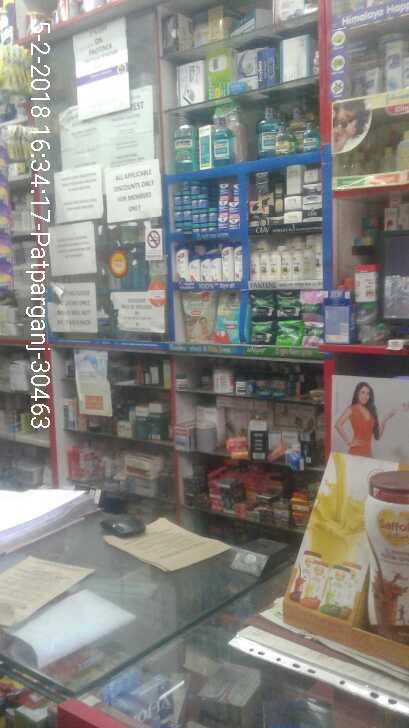beauty: (173, 245, 188, 280), (221, 250, 232, 282), (268, 251, 279, 281), (292, 249, 302, 282), (210, 254, 221, 283), (233, 249, 242, 283), (280, 251, 290, 281), (190, 253, 200, 281), (306, 249, 314, 284), (302, 195, 321, 209), (302, 209, 321, 222), (317, 249, 324, 283), (201, 258, 210, 283), (260, 252, 267, 281), (251, 253, 259, 278)
pharmacy: (177, 292, 214, 341), (217, 295, 238, 339), (275, 323, 301, 346), (250, 294, 274, 317), (277, 294, 300, 317), (302, 296, 323, 320), (305, 324, 326, 347), (250, 324, 275, 342), (191, 182, 208, 194), (192, 197, 208, 207), (219, 211, 229, 225), (230, 212, 239, 226), (219, 185, 229, 196), (174, 193, 183, 205), (230, 201, 240, 211), (192, 211, 200, 223), (183, 192, 191, 204), (220, 197, 228, 208), (184, 207, 191, 219), (232, 184, 239, 196), (209, 210, 216, 221), (175, 207, 182, 218), (201, 211, 207, 222)
